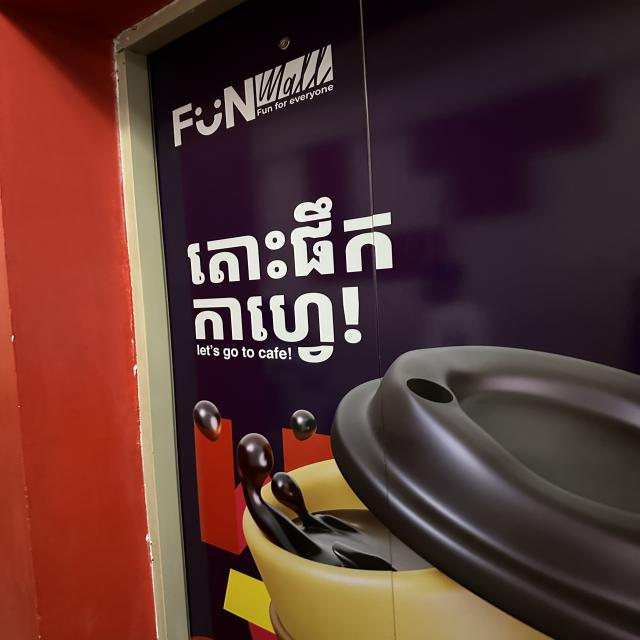Yolov11_80vkh: (169, 185, 404, 291), (179, 284, 373, 364)
